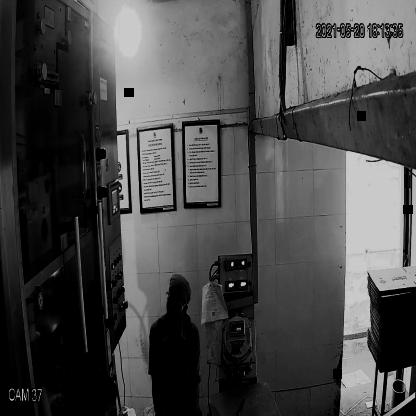goggles: (164, 290, 188, 316)
